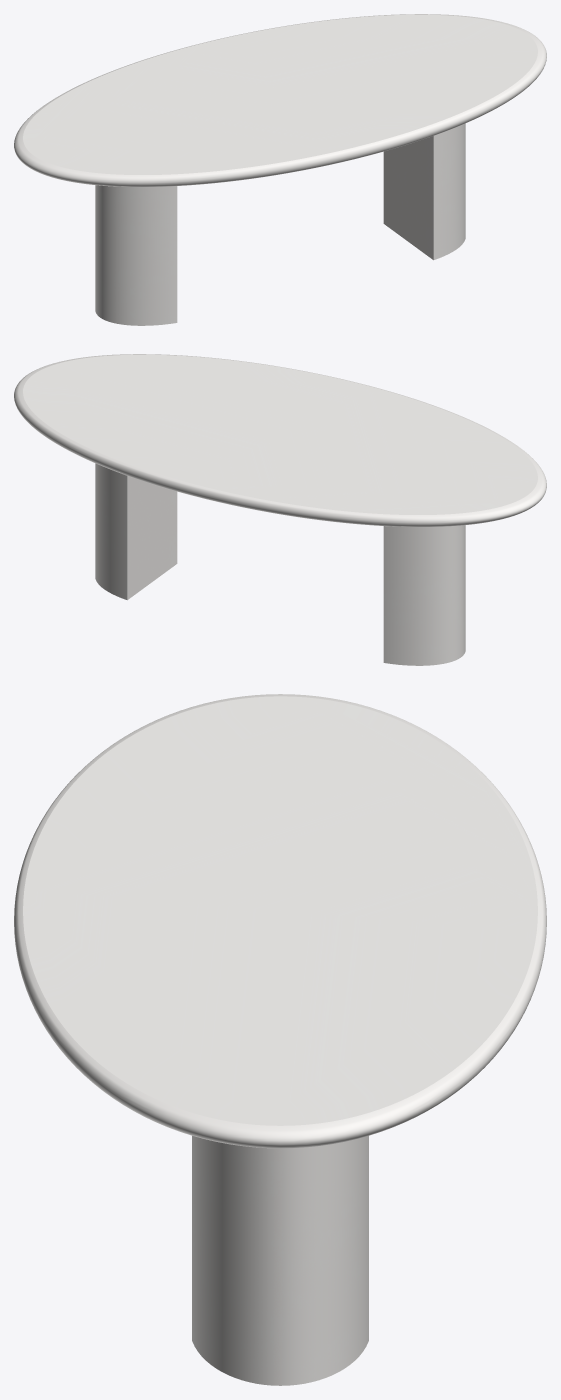
Rendered from purewhite_ellips_round_hillside.glb.
3 views of the same model, one above another, from view 1: azimuth 30°, elevation 25°; view 2: azimuth 150°, elevation 25°; view 3: azimuth 270°, elevation 25° (orthographic). The views are drawn at different scales.
Visible parts, largest first — view 1: round_ellips, hillside; view 2: round_ellips, hillside; view 3: round_ellips, hillside.
Boxes of the visible parts, x1,y1,x2,y2 form: round_ellips: (14, 14, 546, 186); hillside: (95, 123, 465, 325); round_ellips: (14, 354, 546, 526); hillside: (95, 463, 465, 665); round_ellips: (14, 694, 546, 1148); hillside: (192, 1136, 368, 1385).
Bounding box in the file's own units: 7.5 × 2.5 × 3.8.
Materials: 1 (1 with a texture image).
